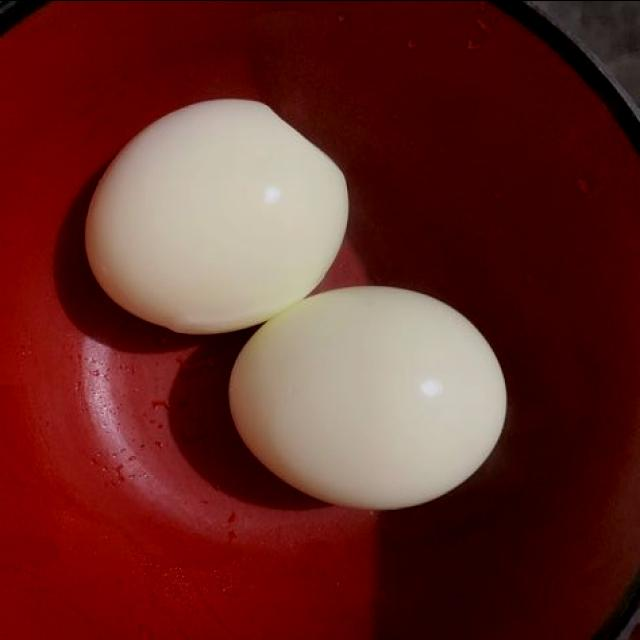telur rebus: (80, 97, 350, 336), (224, 284, 508, 510)
